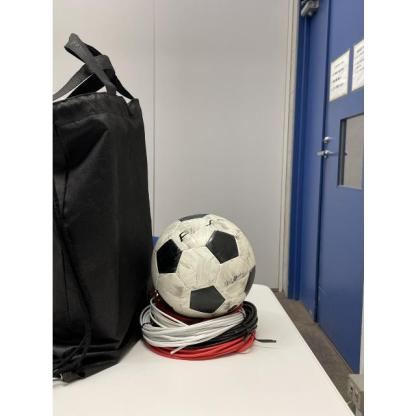ball: (151, 213, 255, 315)
